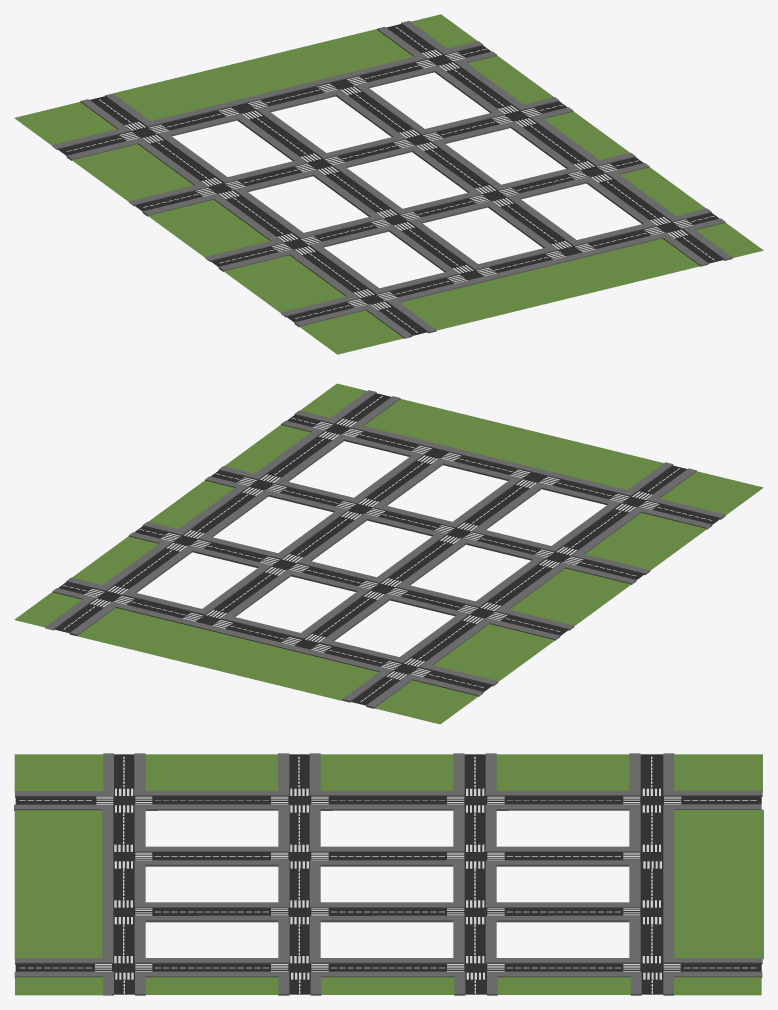
File: Loca (1).fbx
3 views of the same model, one above another, from view 1: azimuth 30°, elevation 25°; view 2: azimuth 150°, elevation 25°; view 3: azimuth 270°, elevation 25° (orthographic). The views are drawn at different scales.
Visible parts, largest first — view 1: Plane.002; view 2: Plane.002; view 3: Plane.002.
Boxes of the visible parts, bbox=[...] form: Plane.002: bbox=[14, 14, 763, 354]; Plane.002: bbox=[14, 383, 763, 724]; Plane.002: bbox=[14, 753, 763, 995].
Bounding box in the file's own units: 10981 × 40.98 × 14452.
